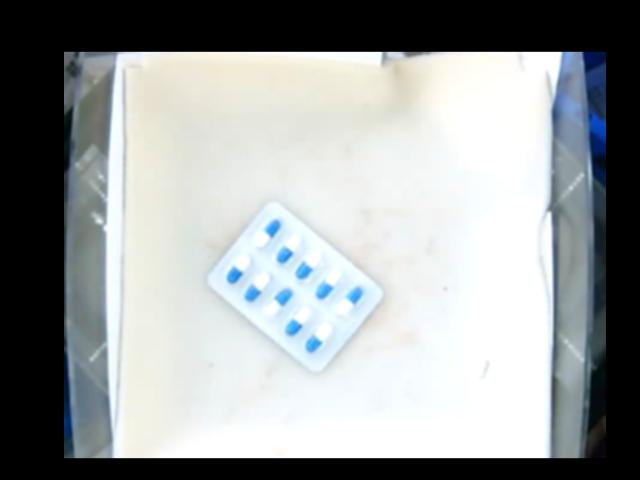Medicine: (203, 202, 384, 375)
